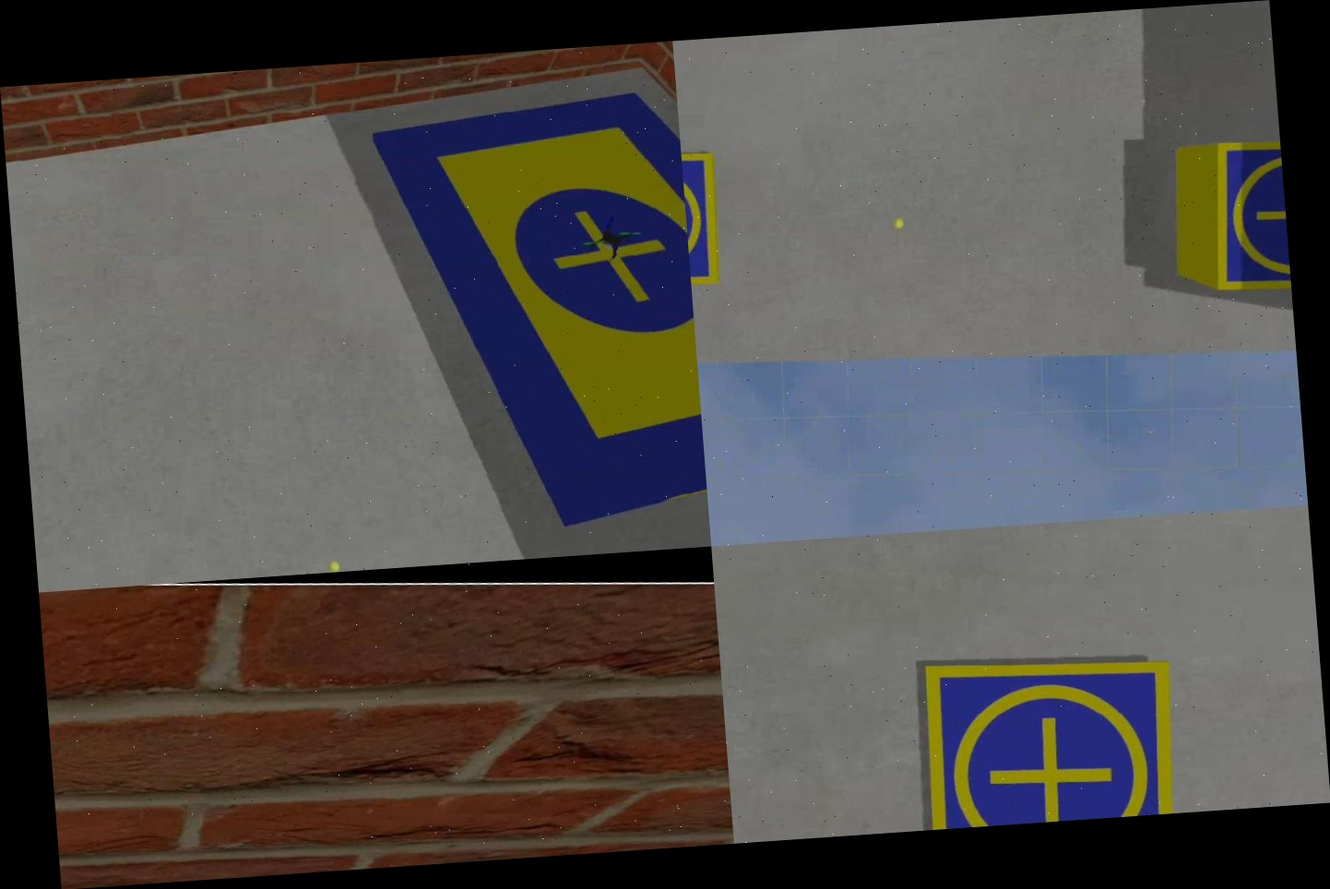large_base: (336, 69, 711, 563)
small_base: (907, 643, 1189, 830), (1203, 134, 1291, 304), (681, 141, 731, 290)
